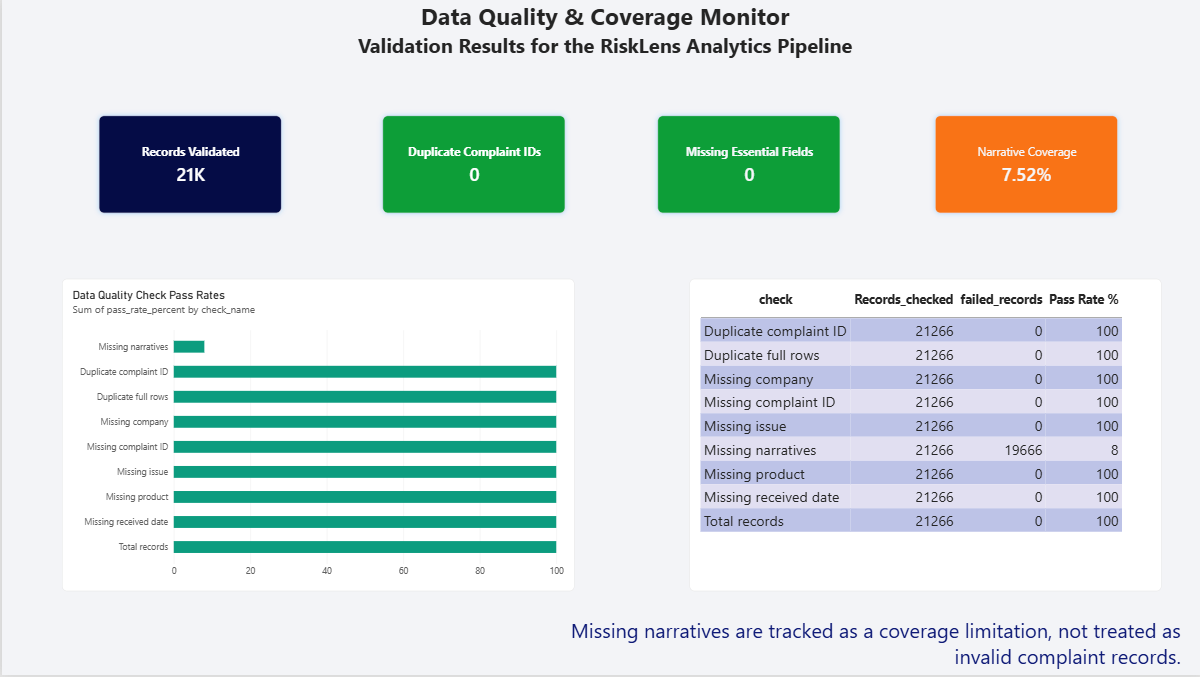

What the dashboard file says about the page in this screenshot:
{"tool":"powerbi","page":{"name":"Data Quality","canvas":[1920,1080],"ordinal":3},"visuals":[{"type":"textbox","box":[10,0,1910,120],"z":0},{"type":"cardVisual","fields":{"Data":["emerging_themes.Records Validated"]},"box":[144,174,314,178],"z":1000},{"type":"cardVisual","fields":{"Data":["emerging_themes.Missing Essential Fields"]},"box":[1038,174,314,178],"z":2000},{"type":"cardVisual","fields":{"Data":["emerging_themes.Narrative Coverage"]},"box":[1482,174,314,178],"z":3000},{"type":"cardVisual","fields":{"Data":["emerging_themes.Duplicate Complaint IDs"]},"box":[598,174,314,178],"z":4000},{"type":"barChart","title":"Data Quality Check Pass Rates","fields":{"Category":["quality_report.check_name"],"Y":["Sum(quality_report.pass_rate_percent)"]},"box":[95,445,820,500],"z":5000},{"type":"tableEx","fields":{"Values":["quality_report.check_name","quality_report.checked_records","quality_report.failed_records","quality_report.pass_rate_percent"]},"box":[1100,445,755,500],"z":6000},{"type":"textbox","box":[845,985,1040,95],"z":6001}]}

Visuals, with their boxes in screenshot pixels (x1, y1, x2, y2), scaled from the page's 1920x1080 canvas onto the 1200x677 screenshot:
textbox: 6,0,1199,75
cardVisual - emerging_themes.Records Validated: 90,109,286,221
cardVisual - emerging_themes.Missing Essential Fields: 649,109,845,221
cardVisual - emerging_themes.Narrative Coverage: 926,109,1122,221
cardVisual - emerging_themes.Duplicate Complaint IDs: 374,109,570,221
"Data Quality Check Pass Rates" barChart: 59,279,572,592
tableEx - quality_report.check_name x quality_report.checked_records: 688,279,1159,592
textbox: 528,617,1178,676
